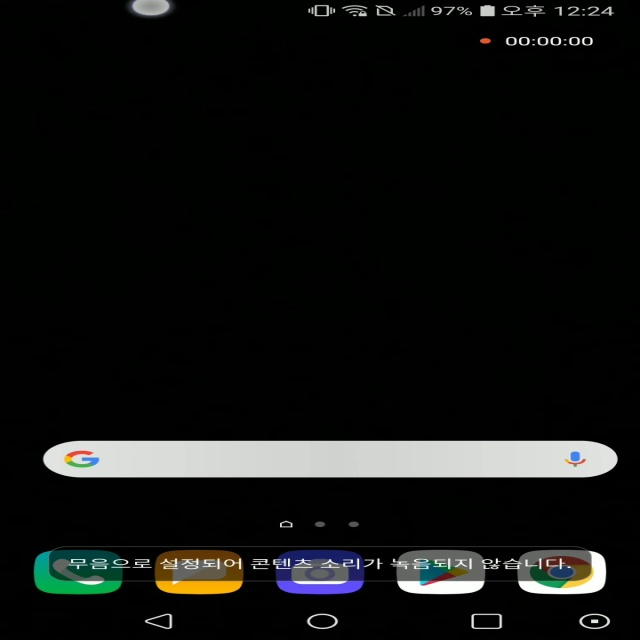Cursor: (129, 1, 173, 19)
